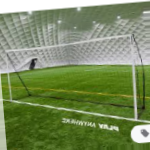goals: (5, 33, 150, 124)
